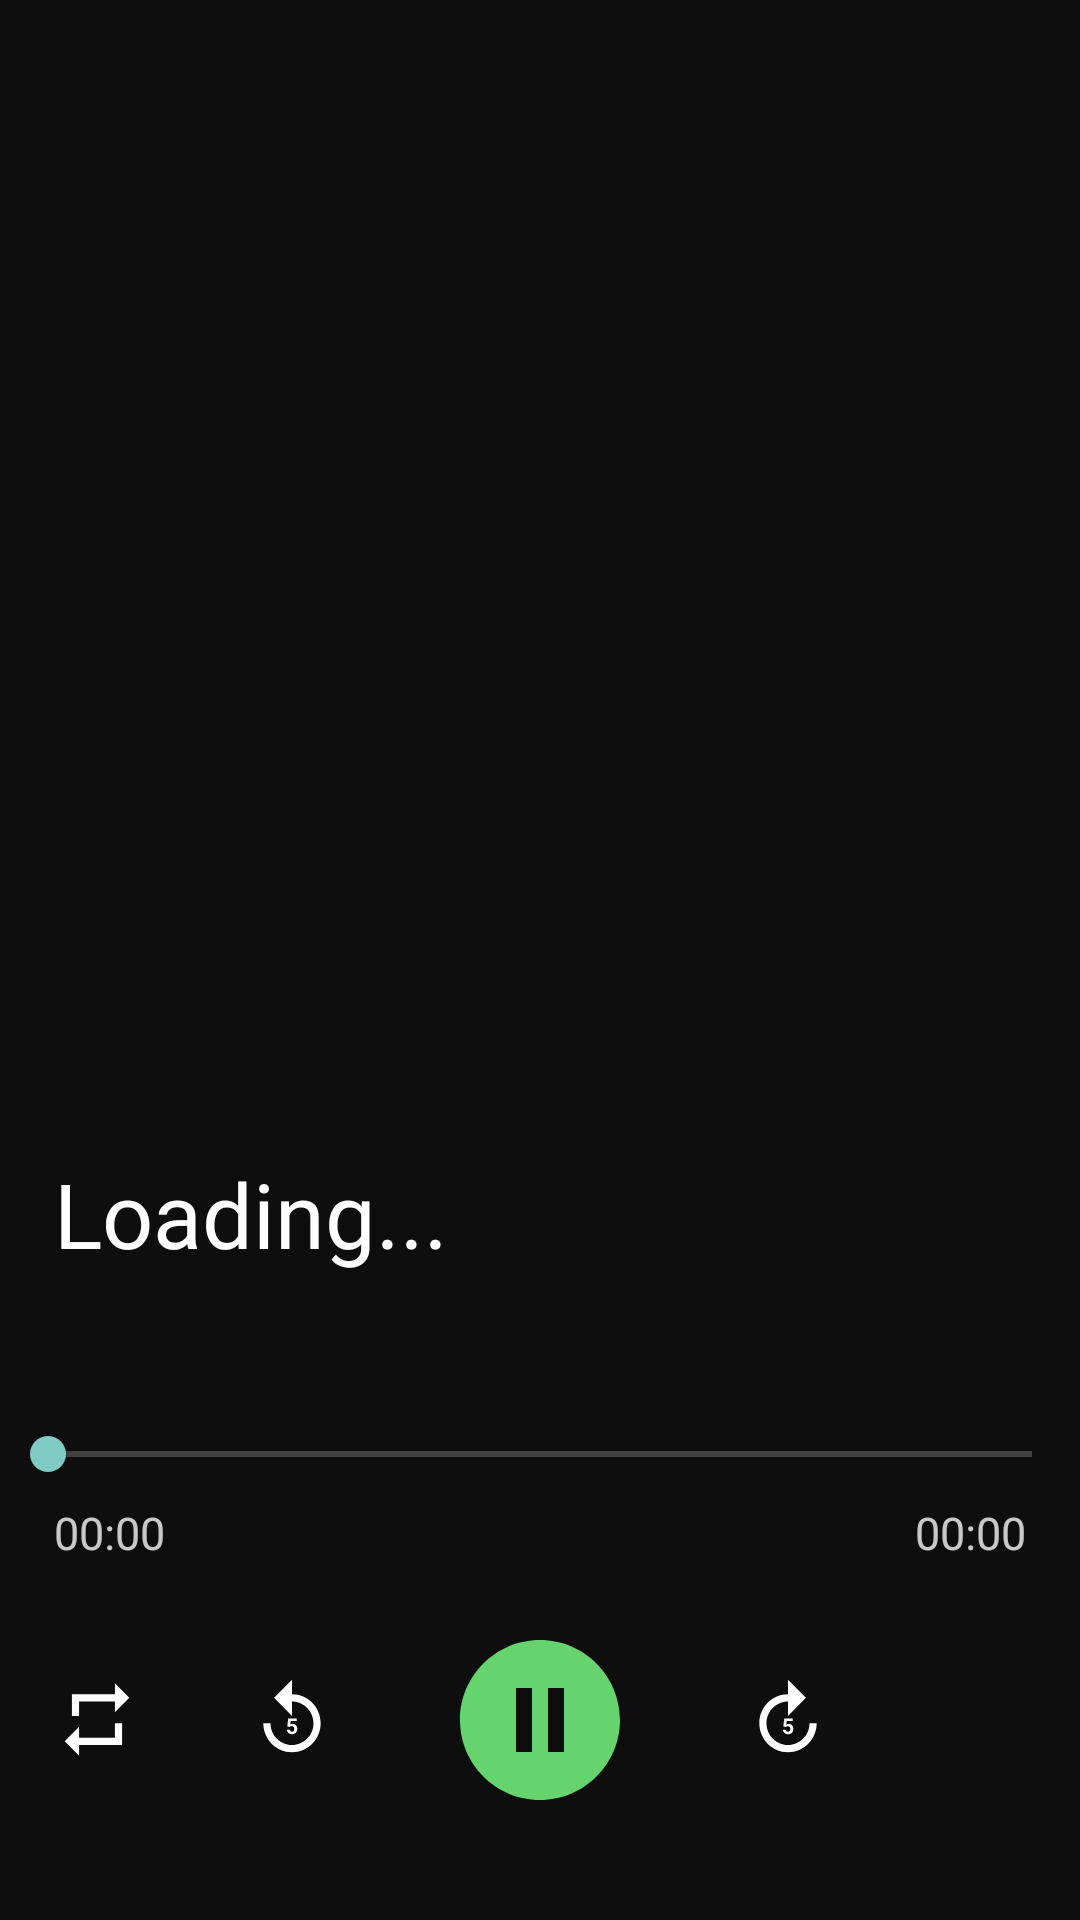

Locate icon controls on the screen. Image size 1080x1920, boxes as bbox(x1, y1, x2, y2).
forward: bbox(759, 1680, 817, 1753)
repeat off: bbox(65, 1683, 129, 1756)
replay: bbox(263, 1680, 321, 1753)
